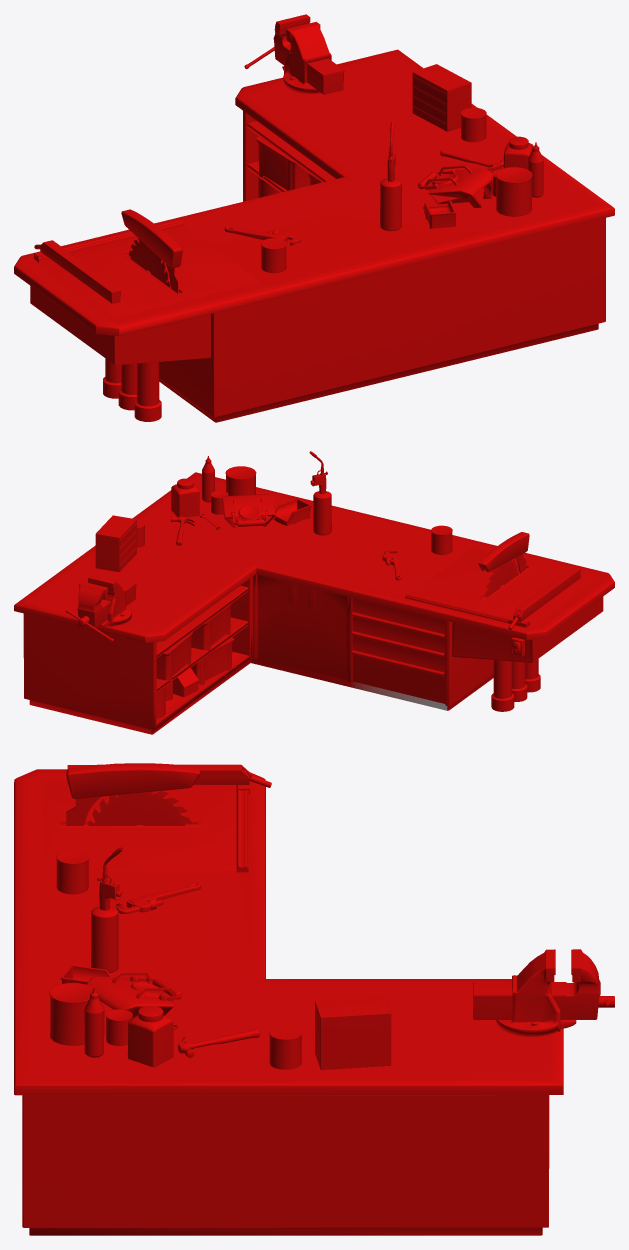
File: LargeWorkbench.fbx
3 renders of one model, top to bottom at view 1: azimuth 30°, elevation 25°; view 2: azimuth 150°, elevation 25°; view 3: azimuth 270°, elevation 25°, orthographic. The views are drawn at different scales.
Visible parts, largest first — view 1: SM_WorkShop; view 2: SM_WorkShop; view 3: SM_WorkShop.
Part boxes in pixels (x1,y1,x2,y2): SM_WorkShop: [14, 14, 614, 422]; SM_WorkShop: [14, 451, 614, 734]; SM_WorkShop: [14, 763, 614, 1235].
Bounding box in the file's own units: 417 × 177 × 335.
